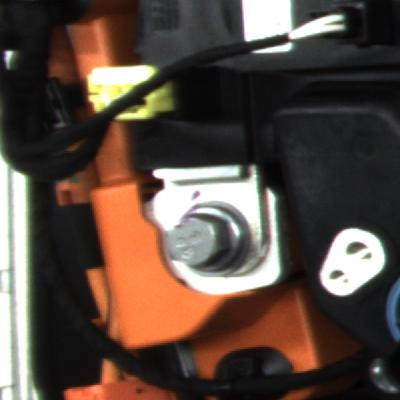nut_b: (159, 194, 270, 289)
